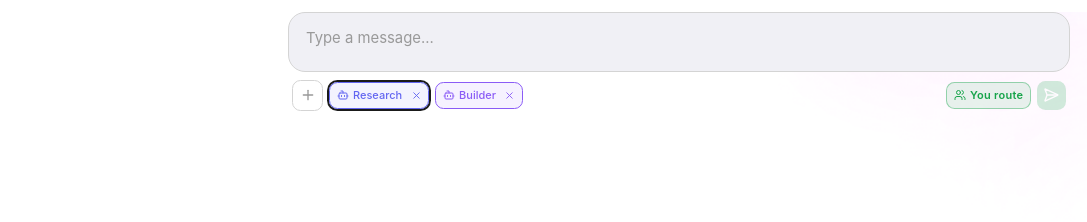
refusing a send in a human chat › moves the refusal when — and only when — the user addresses the refused agent
In the dropdown: (679, 38) [289,13,1069,63], type "b"
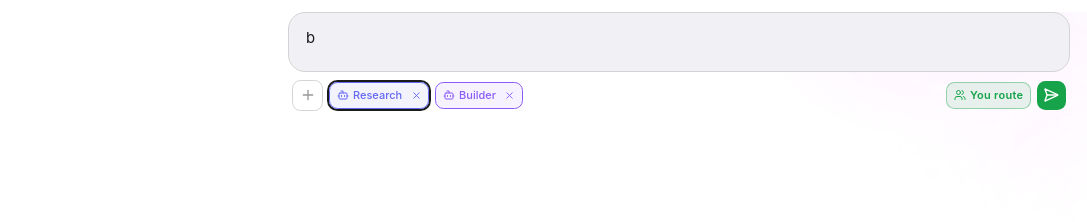
expect the text "Could not reach the agent." is not shown: met
Replace the text in the dropdown with "bu": (679, 38) [289,13,1069,63]
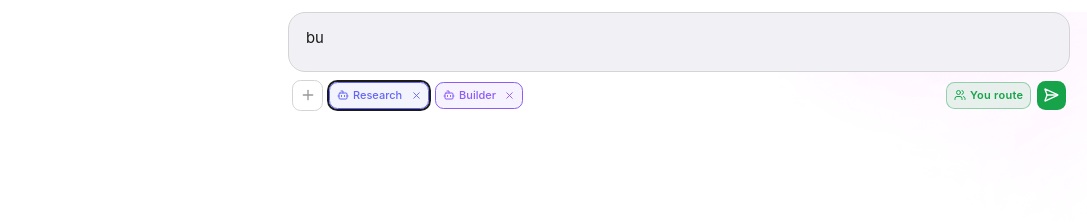
expect the text "Could not reach the agent." is not shown: met
Replace the text in the dropdown with "@Builder": (679, 38) [289,13,1069,63]
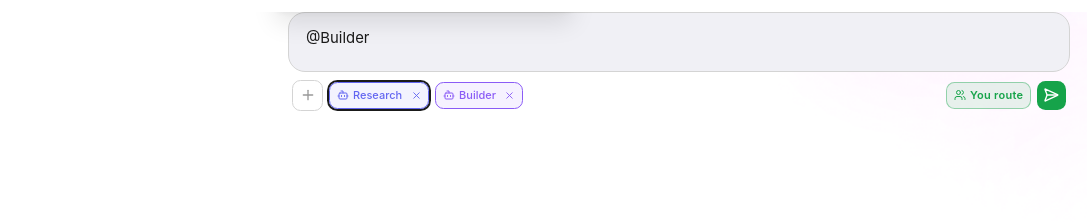
expect the text "Could not reach the agent." is not shown: met
Clear the dropdown: (679, 38) [289,13,1069,63]
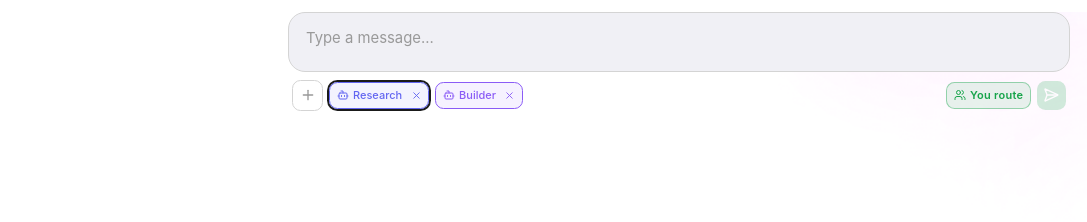
expect the text "Could not reach the agent." is not shown: met
Click the button "Builder": (469, 95) [443,87,496,104]
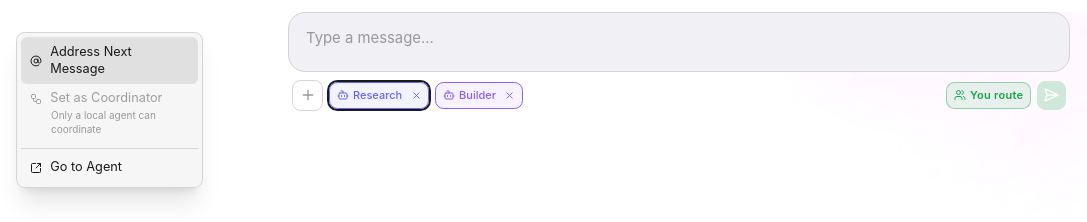
Click the menu item "Address Next Message": (110, 61) [21,37,198,84]
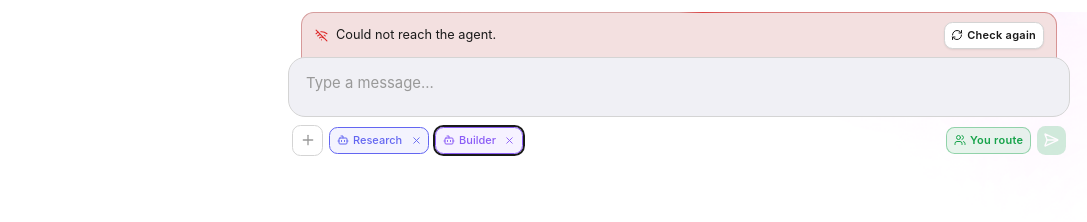
expect the text "Could not reach the agent." is shown: met, box [336,27,496,42]
